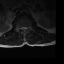CCS_normal: (23, 25, 25, 33)
LFS_normal: (27, 25, 29, 31)
LLS_normal: (25, 25, 27, 31)
RFS_normal: (19, 26, 21, 30)
RLS_normal: (21, 25, 23, 31)
